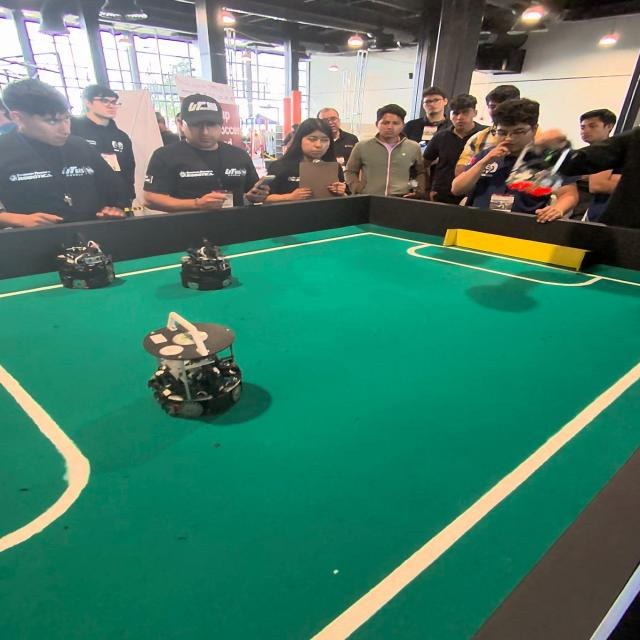Robot: (141, 306, 253, 426), (56, 234, 120, 294), (180, 236, 237, 293)
